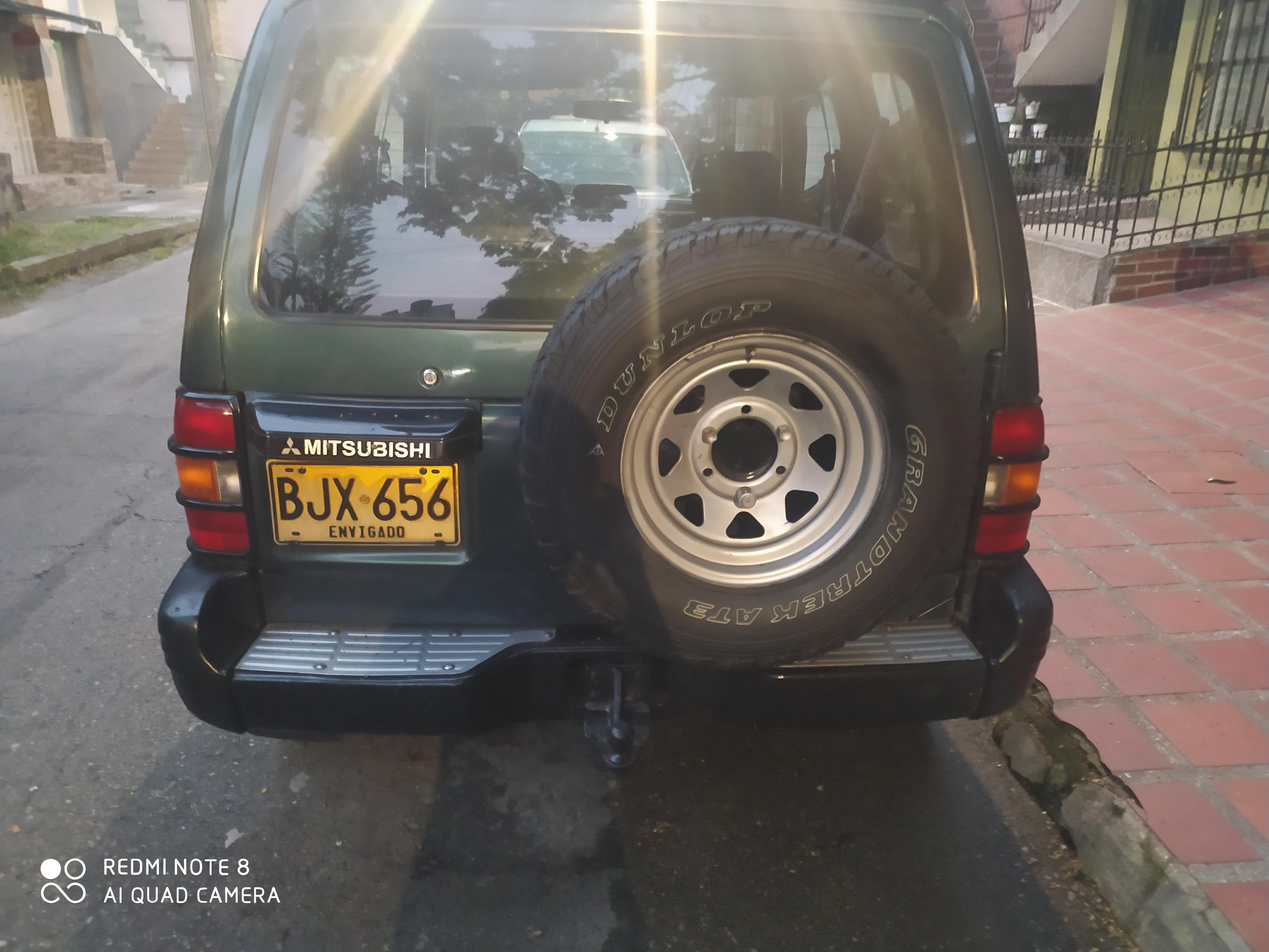placa: (255, 446, 469, 556)
